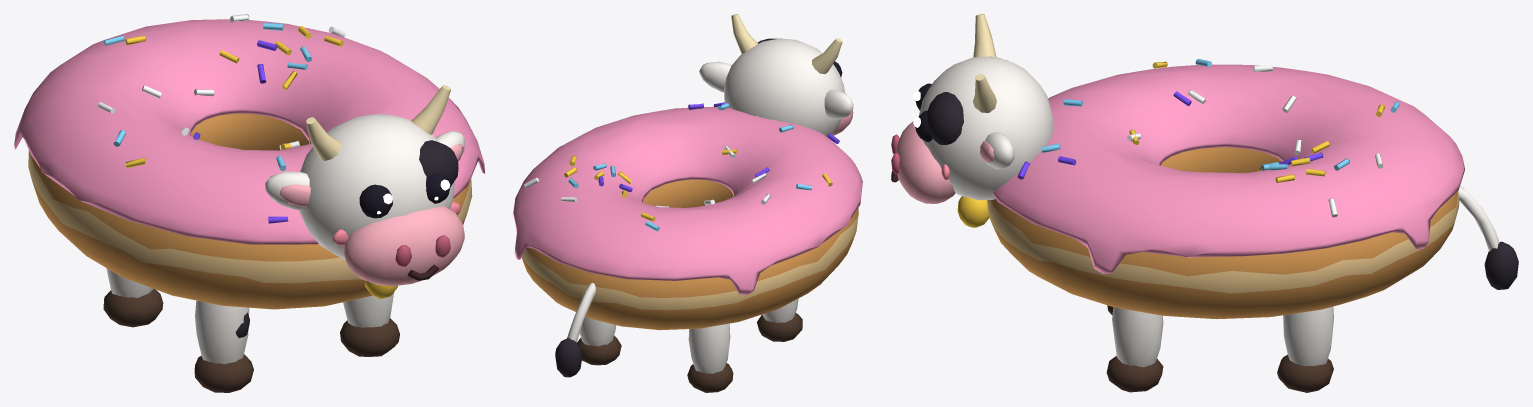
The model's file is pilot_ku_smultring_lav.glb.
3 views of the same model, side by side, from view 1: azimuth 30°, elevation 25°; view 2: azimuth 150°, elevation 25°; view 3: azimuth 270°, elevation 25° (orthographic). The views are drawn at different scales.
Visible parts, largest first — view 1: kropp, hode, bein_vf, bein_hf, bein_vb; view 2: kropp, hode, bein_vb, bein_hb, hale, bein_vf; view 3: kropp, hode, bein_hb, bein_hf, hale.
Part boxes in pixels (x1=…): kropp: x1=14, y1=14, x2=484, y2=309; hode: x1=265, y1=85, x2=465, y2=299; bein_vf: x1=194, y1=300, x2=253, y2=392; bein_hf: x1=340, y1=292, x2=399, y2=356; bein_vb: x1=103, y1=268, x2=163, y2=327; kropp: x1=513, y1=102, x2=862, y2=330; hode: x1=699, y1=14, x2=853, y2=137; bein_vb: x1=687, y1=323, x2=733, y2=392; bein_hb: x1=577, y1=316, x2=621, y2=365; hale: x1=555, y1=283, x2=595, y2=377; bein_vf: x1=757, y1=298, x2=802, y2=341; kropp: x1=987, y1=59, x2=1464, y2=319; hode: x1=891, y1=14, x2=1053, y2=227; bein_hb: x1=1277, y1=306, x2=1333, y2=392; bein_hf: x1=1106, y1=307, x2=1163, y2=392; hale: x1=1458, y1=186, x2=1518, y2=289.
Bounding box in the file's own units: 1.46 × 1.21 × 2.21.
